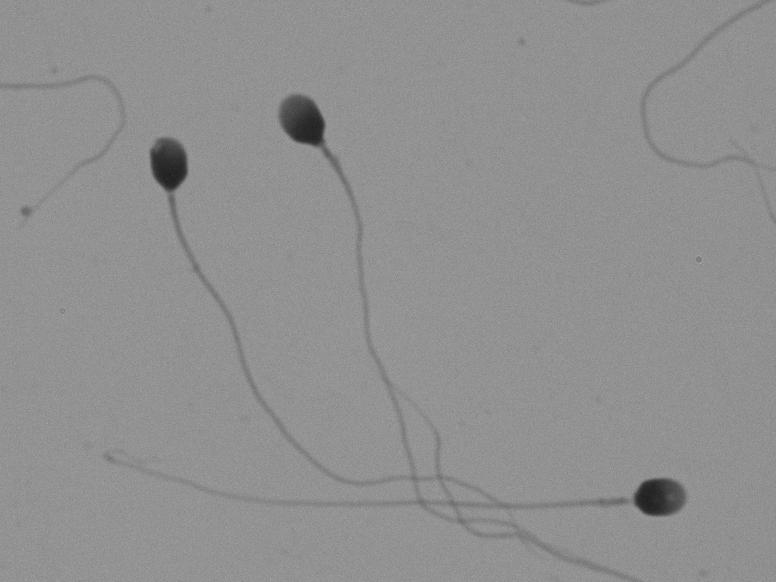Abnormal: (122, 104, 257, 478)
Normal: (115, 377, 704, 555), (266, 52, 436, 554)
